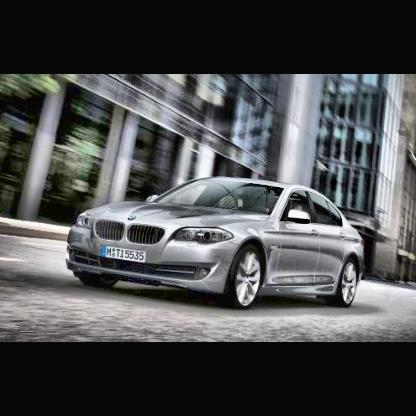BMW ActiveHybrid 5 Sedan 2012: (66, 177, 366, 311)
